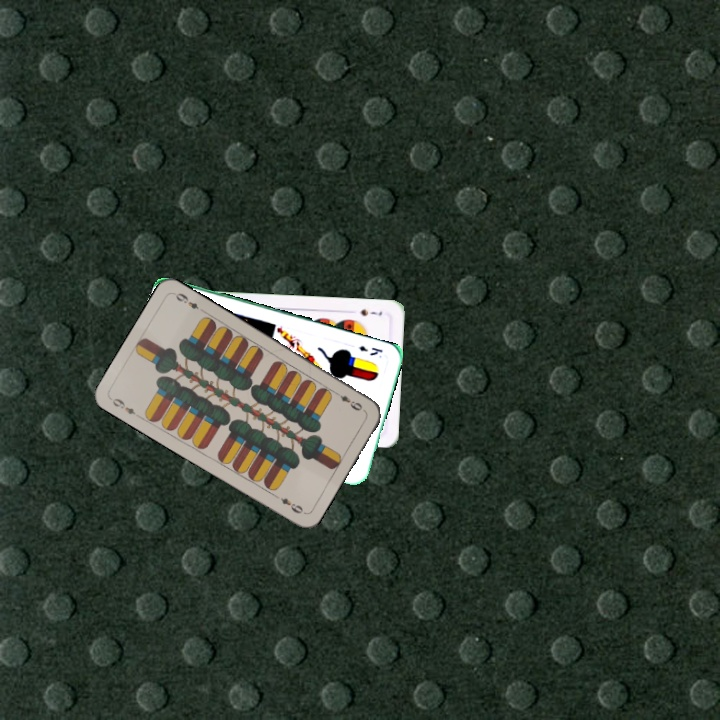E9: (108, 394, 143, 421), (331, 388, 365, 414)
EK: (355, 341, 385, 358)
S7: (356, 305, 385, 318)
